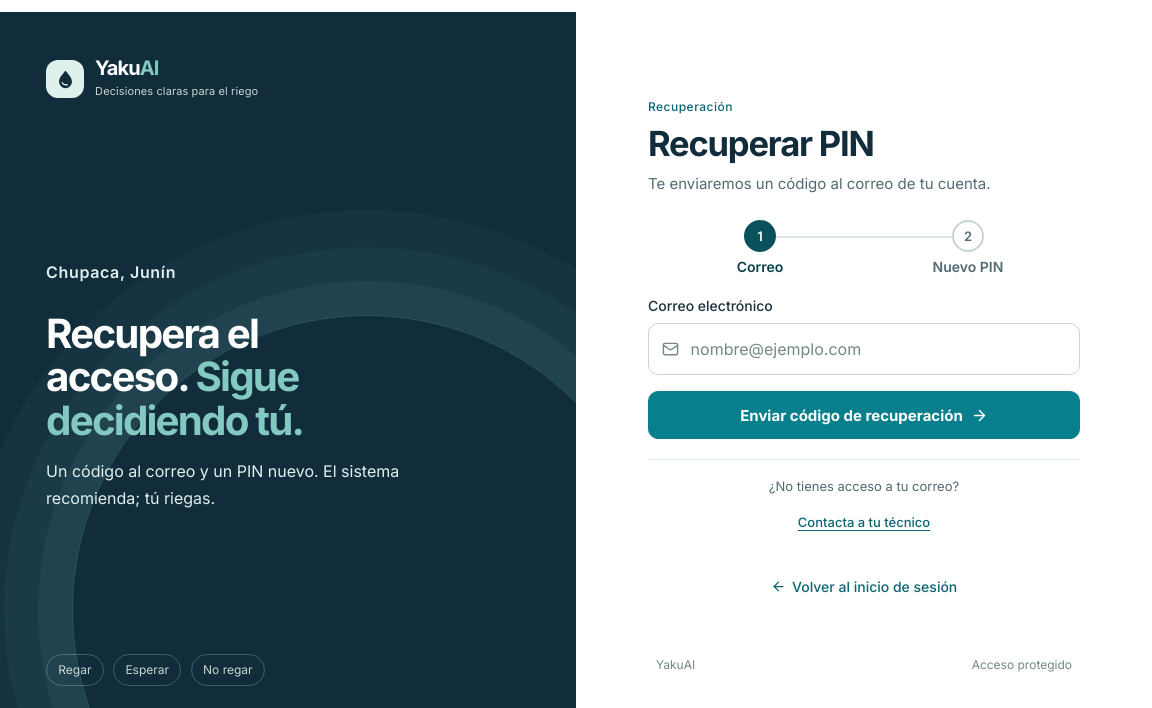
Test: Recuperación de PIN › valida el PIN de cuatro dígitos
In the field labelled "Correo electrónico": (864, 349) x1=648 y1=323 x2=1080 y2=375, type "agricultor@yakuai.com"
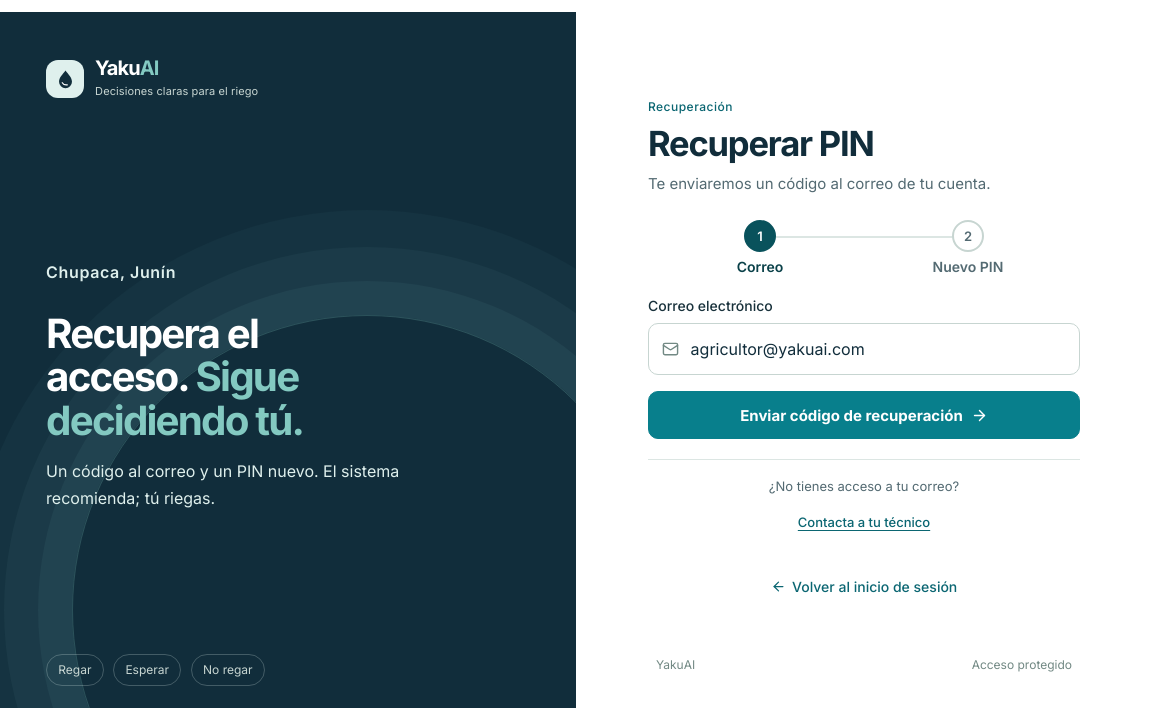
Click the button "Enviar código de recuperación": (864, 415) x1=648 y1=391 x2=1080 y2=439
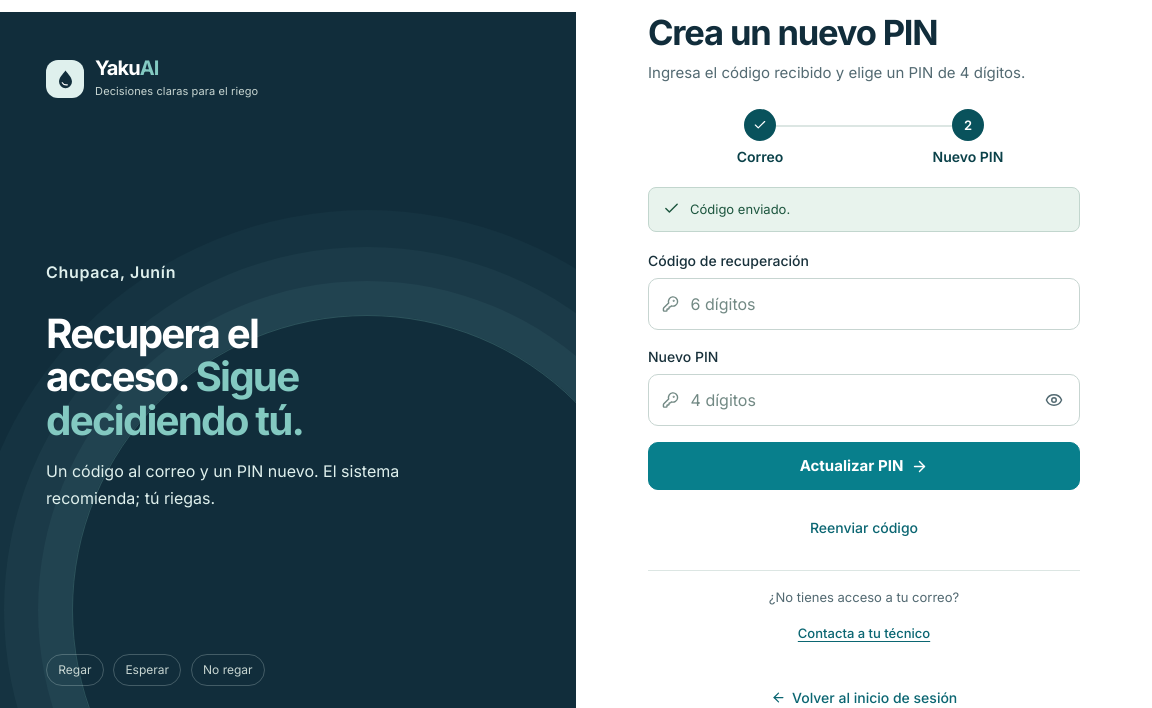
In the field labelled "Código de recuperación": (864, 304) x1=648 y1=278 x2=1080 y2=330, type "123456"
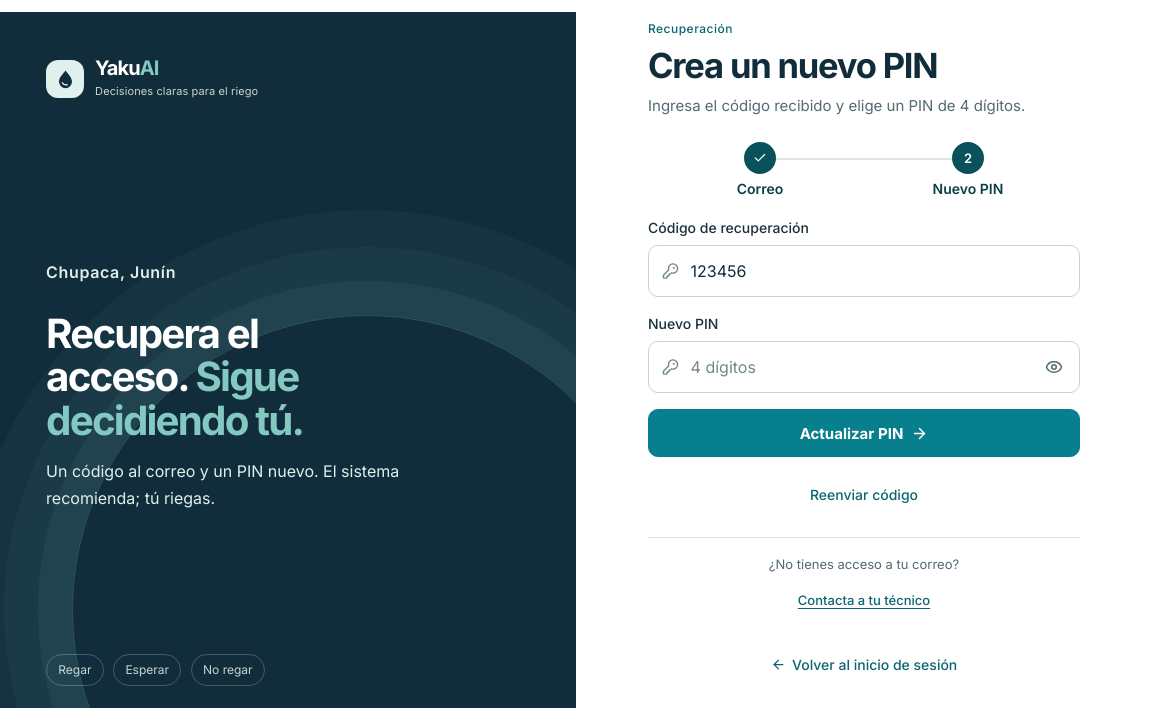
In the password field labelled "Nuevo PIN": (864, 367) x1=648 y1=341 x2=1080 y2=393, type "12"
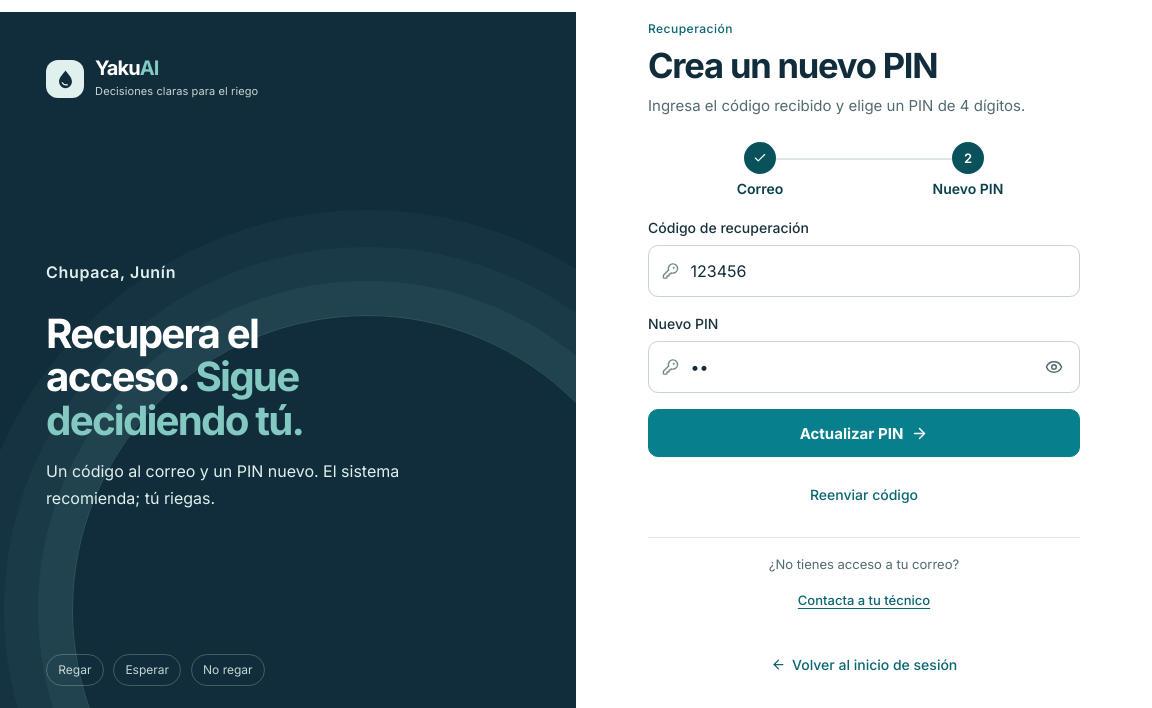
Click the button "Actualizar PIN": (864, 433) x1=648 y1=409 x2=1080 y2=457
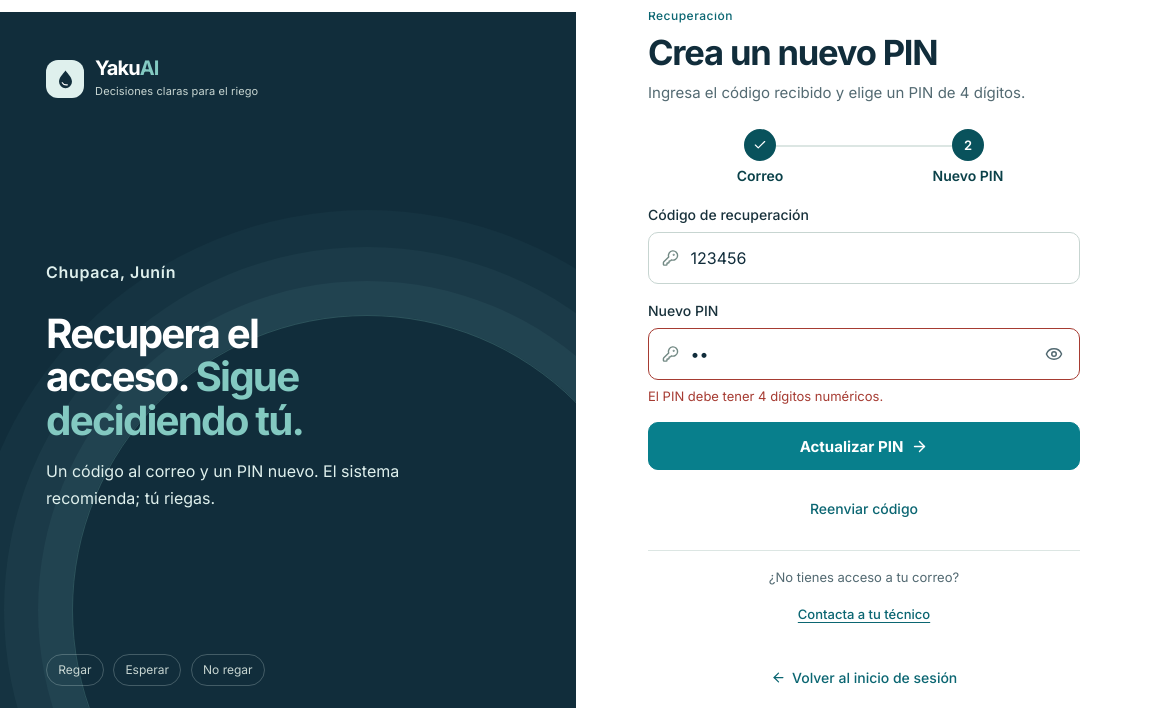
Now the text "El PIN debe tener 4 dígitos numéricos." is shown, box x1=648 y1=388 x2=883 y2=404
